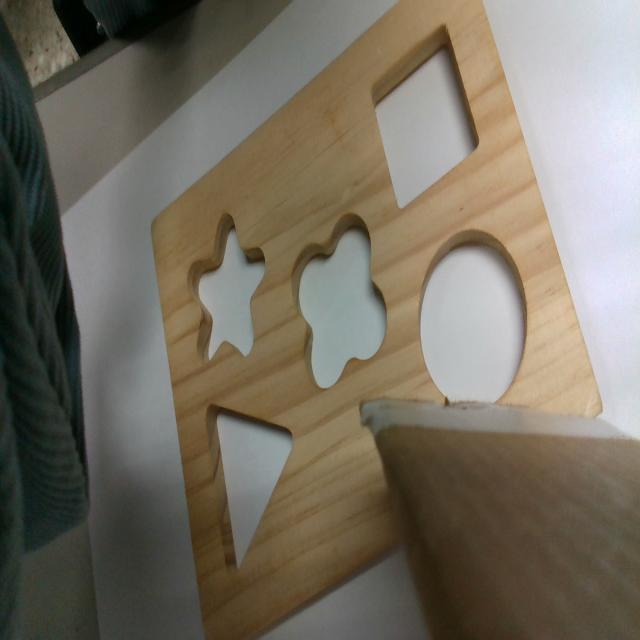circle: (419, 231, 526, 402)
flower: (290, 213, 388, 387)
square: (368, 24, 480, 212)
star: (187, 213, 267, 360)
triangle: (204, 400, 294, 574)
